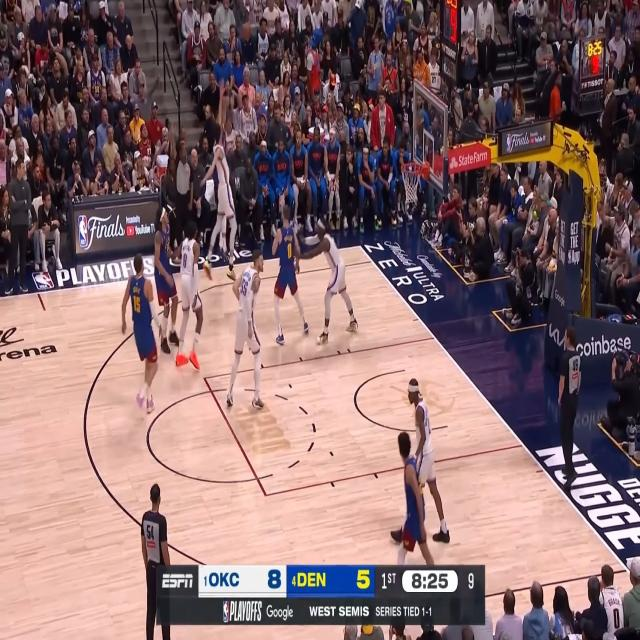ball: (241, 22, 251, 41)
number: (132, 293, 141, 314), (240, 276, 248, 296), (182, 253, 188, 268), (287, 244, 292, 259)
player: (390, 377, 451, 543), (292, 217, 358, 344), (226, 248, 265, 410), (121, 254, 159, 416), (271, 202, 310, 346), (396, 433, 435, 564), (170, 221, 203, 371), (152, 207, 182, 354)
player-jump-shot: (212, 79, 235, 262)
player-shot-block: (199, 79, 238, 282)
referee: (141, 482, 172, 640), (558, 327, 582, 491), (168, 123, 194, 269)
rim: (400, 162, 421, 176)
